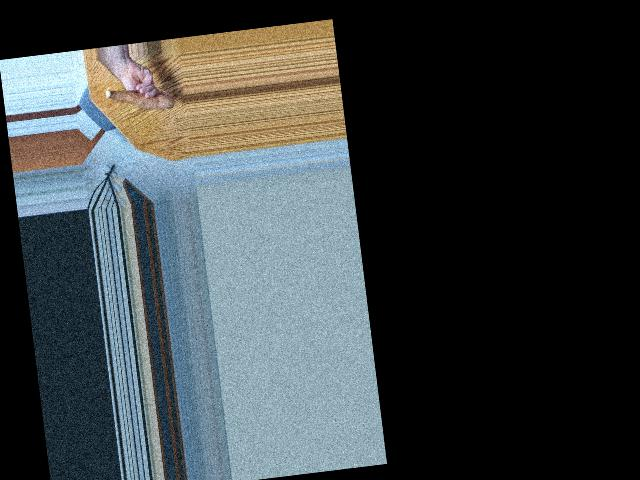sweet_potato: (104, 81, 173, 119)
